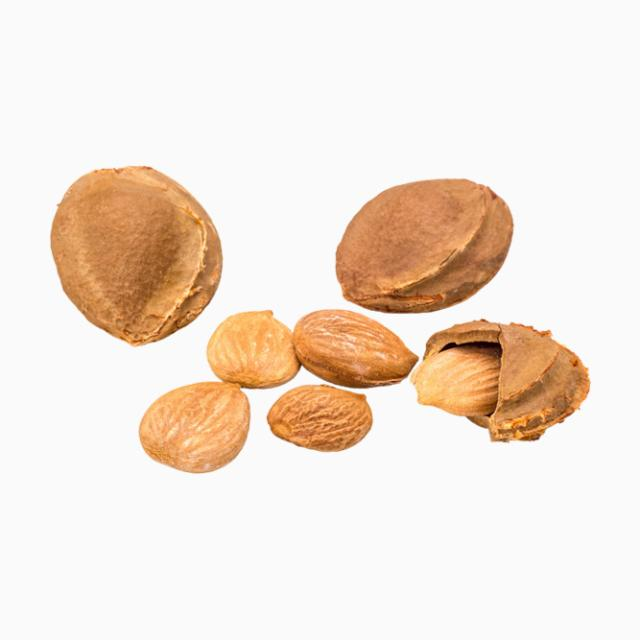kayisi cekirdegi: (49, 160, 222, 342), (417, 310, 592, 450), (333, 180, 519, 310), (134, 369, 253, 479), (298, 303, 417, 393), (273, 376, 373, 456), (209, 306, 297, 381)
